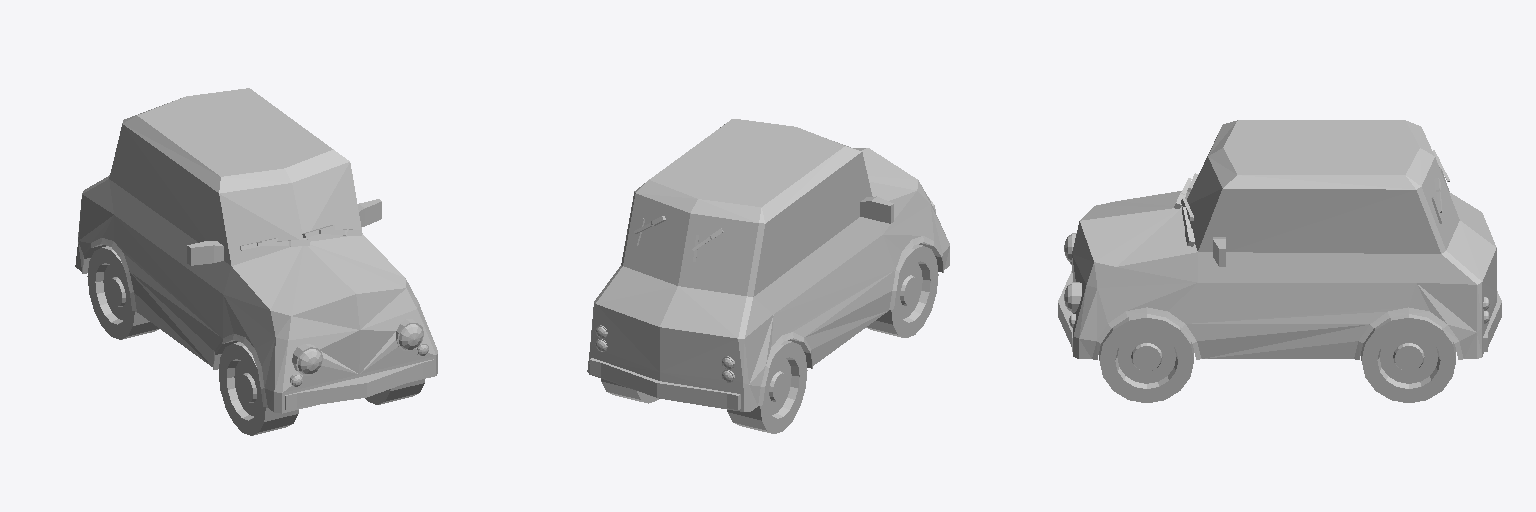
The model's file is car_turr.obj.
The picture shows the model from 3 angles: view 1: azimuth 30°, elevation 25°; view 2: azimuth 150°, elevation 25°; view 3: azimuth 270°, elevation 25°; orthographic projection.
Parts seen in each view (by area): view 1: Car, Wheel_a1, Wheel__b, Wheel__c; view 2: Car, Wheel__b, Wheel_a1, Wheel__d; view 3: Car, Wheel__c, Wheel__d.
Boxes of the visible parts, x1=… form: Car: x1=75, y1=88, x2=437, y2=413; Wheel_a1: x1=219, y1=342, x2=298, y2=435; Wheel__b: x1=87, y1=246, x2=158, y2=339; Wheel__c: x1=365, y1=379, x2=424, y2=404; Car: x1=587, y1=119, x2=949, y2=411; Wheel__b: x1=727, y1=340, x2=807, y2=433; Wheel_a1: x1=866, y1=244, x2=938, y2=337; Wheel__d: x1=601, y1=379, x2=658, y2=403; Car: x1=1058, y1=120, x2=1501, y2=359; Wheel__c: x1=1099, y1=314, x2=1193, y2=402; Wheel__d: x1=1361, y1=314, x2=1455, y2=402.
Bounding box in the file's own units: 75.86 × 82.08 × 153.